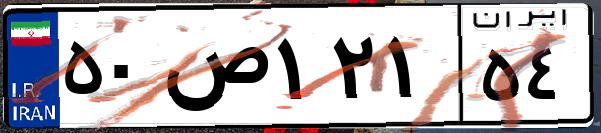0: (110, 28, 158, 98)
1: (270, 28, 330, 110), (385, 28, 445, 110)
2: (330, 28, 385, 110)
4: (525, 38, 570, 115)
5: (57, 26, 110, 100), (475, 38, 525, 113)
ص: (158, 20, 270, 120)
